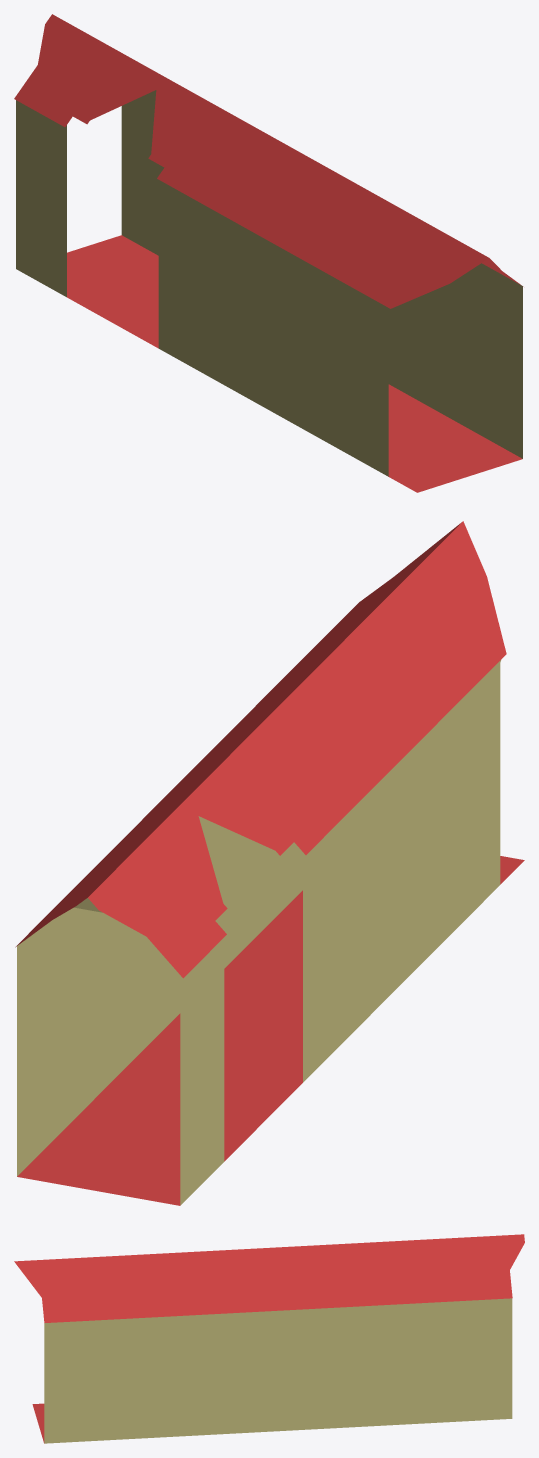
The picture shows the model from 3 angles, top to bottom: view 1: azimuth 30°, elevation 25°; view 2: azimuth 150°, elevation 25°; view 3: azimuth 270°, elevation 25°; orthographic projection. The views are drawn at different scales.
Bounding box in the file's own units: 22.53 × 73.98 × 26.09.
